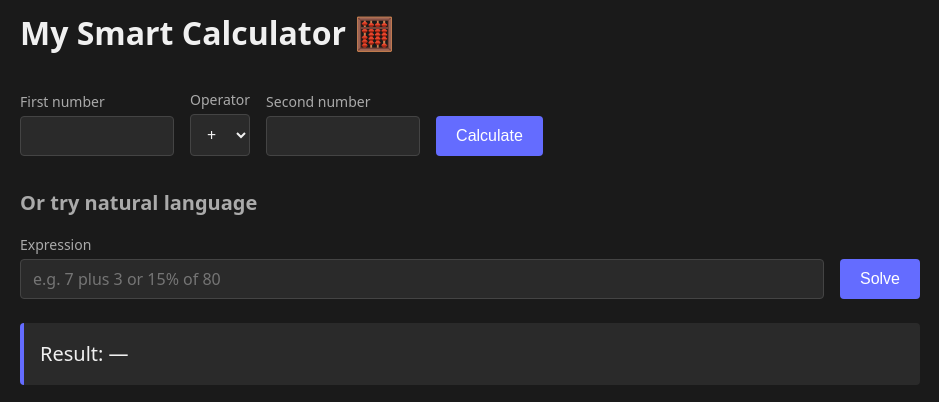
App › [CALC-022] hints "did you mean Calculate?" when the expression is empty but a number is filled
Type "5" into the number field labelled "First number" at (97, 136), box [20,116,174,156]
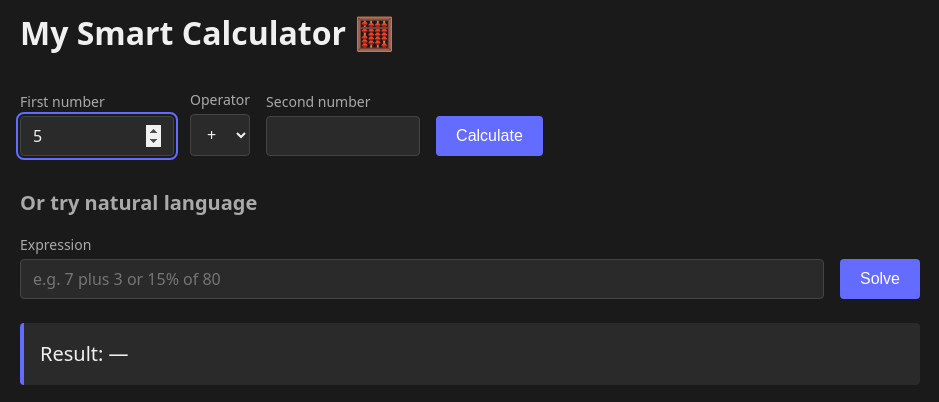
Click the button "Solve" at (880, 279), box [840,259,920,299]
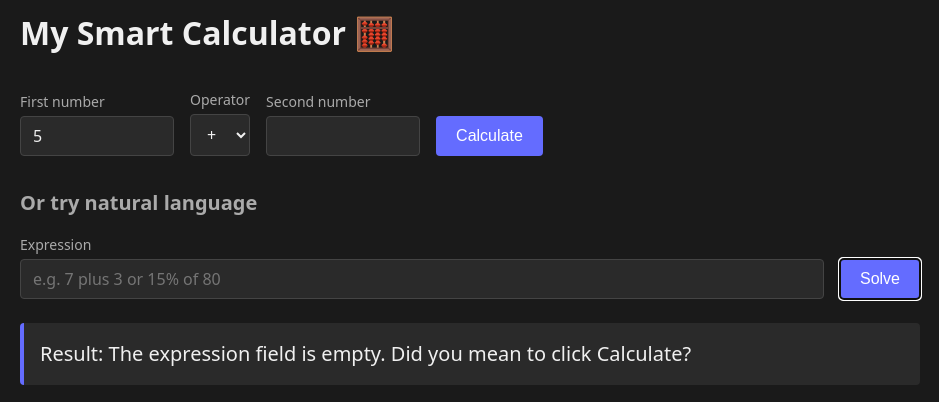
Expected: the text "The expression field is empty. Did you mean to click Calculate?" is shown, [109,340,691,367]
